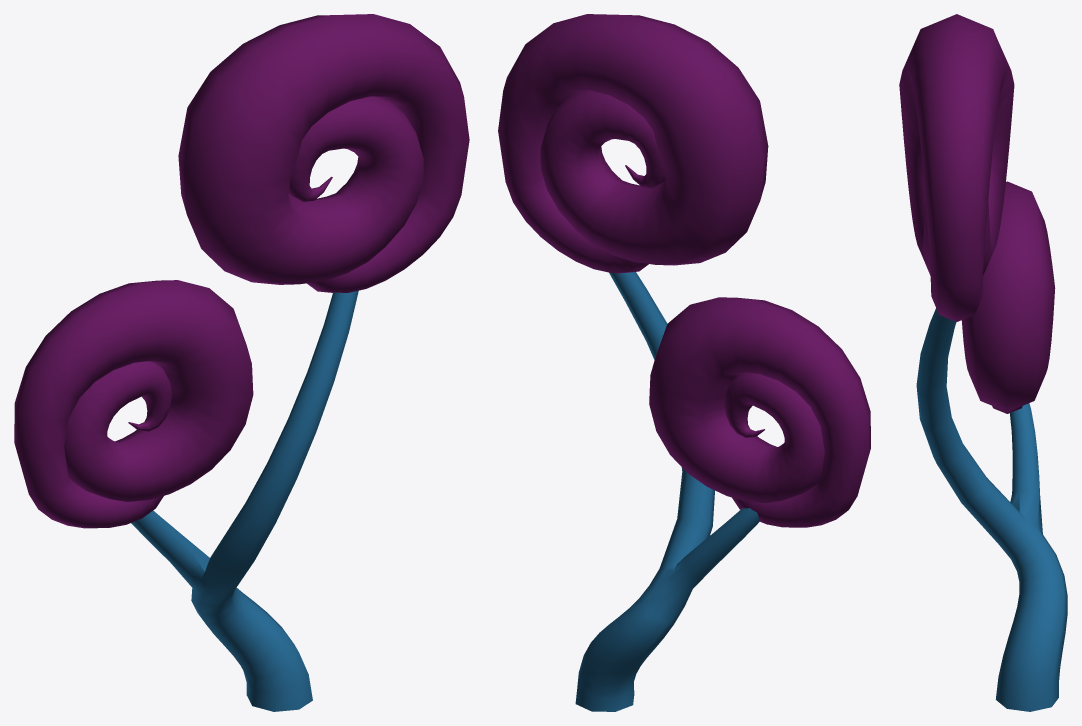
Rendered from Tree Swirl 1.glb.
3 views of the same model, side by side, from view 1: azimuth 30°, elevation 25°; view 2: azimuth 150°, elevation 25°; view 3: azimuth 270°, elevation 25° (orthographic). The views are drawn at different scales.
Visible parts, largest first — view 1: Tree_Swirl_1; view 2: Tree_Swirl_1; view 3: Tree_Swirl_1.
Part boxes in pixels (x1,y1,x2,y2): Tree_Swirl_1: (14, 14, 469, 711); Tree_Swirl_1: (498, 14, 870, 711); Tree_Swirl_1: (899, 14, 1067, 711).
Bounding box in the file's own units: 4.61 × 7.35 × 1.68.
1 material, 1 textured.
